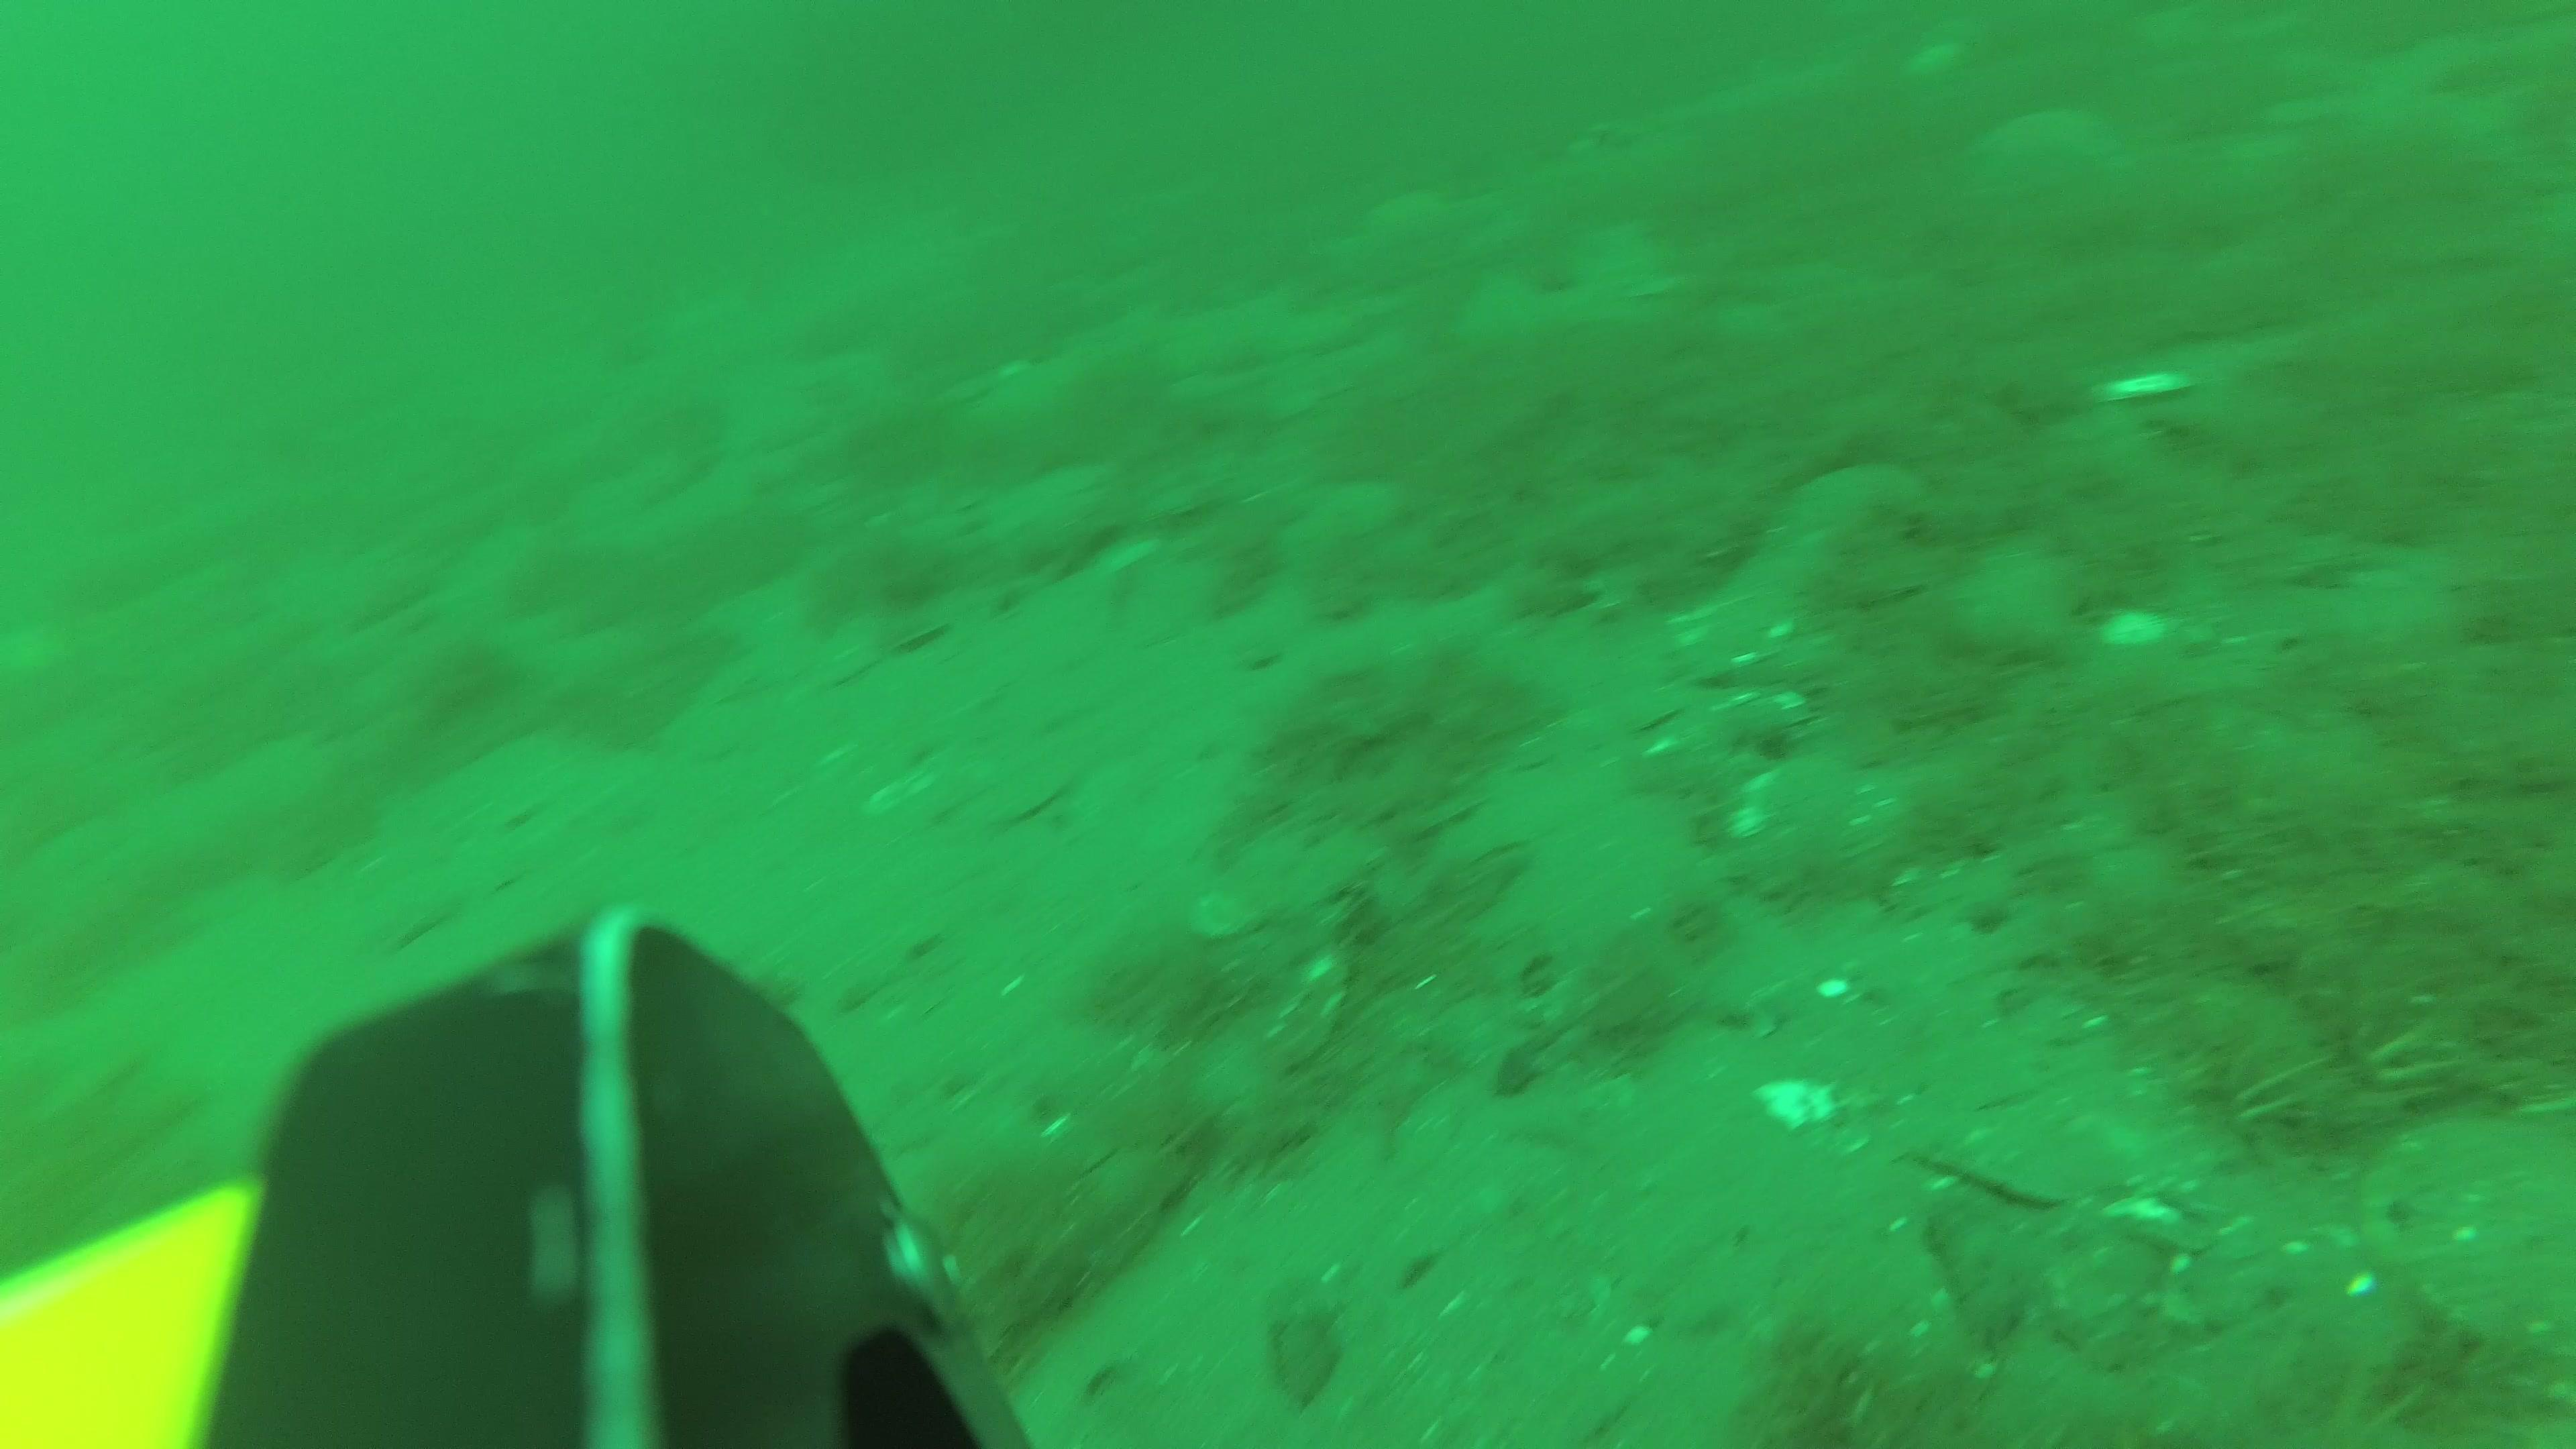scallop: (2376, 1111, 2576, 1345)
starfish: (1969, 106, 2107, 195), (1357, 180, 1484, 276)
